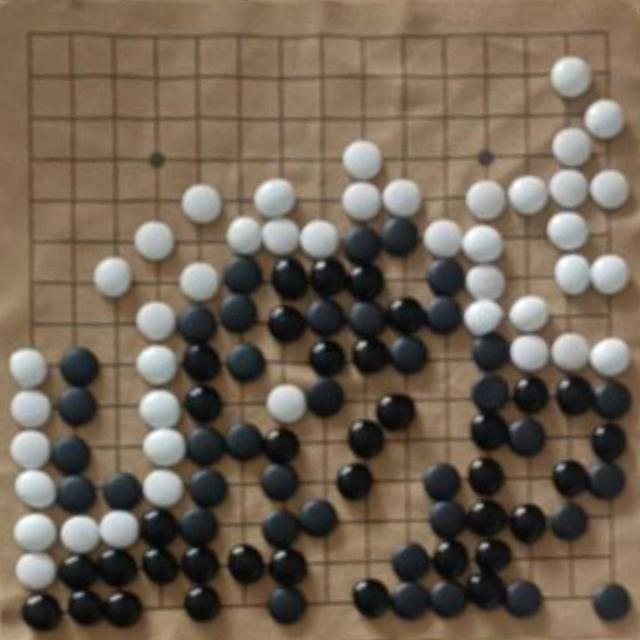blackstone: (58, 346, 101, 386), (50, 435, 92, 474), (470, 412, 511, 451), (221, 256, 263, 294), (56, 388, 98, 426), (379, 216, 418, 256), (271, 259, 310, 299), (139, 507, 179, 546), (556, 375, 595, 415), (268, 547, 308, 586), (351, 578, 390, 618), (102, 472, 143, 510), (96, 548, 137, 586), (178, 304, 218, 342), (342, 225, 382, 263), (57, 474, 97, 512), (259, 462, 299, 500), (305, 378, 345, 416), (261, 510, 301, 548), (308, 257, 348, 295), (592, 380, 630, 420), (58, 552, 98, 590), (376, 393, 416, 431), (391, 582, 431, 620), (266, 586, 306, 624), (178, 507, 219, 544), (181, 343, 222, 380), (465, 499, 506, 536), (21, 593, 62, 630), (224, 344, 266, 380), (422, 462, 461, 500), (346, 262, 385, 300), (549, 503, 588, 541), (227, 545, 266, 583), (508, 503, 546, 542), (592, 582, 631, 620), (470, 334, 510, 371), (188, 469, 228, 506), (388, 296, 428, 333), (507, 417, 545, 455), (299, 498, 337, 536), (467, 457, 505, 495), (552, 459, 590, 497), (104, 590, 142, 628), (219, 293, 258, 330), (306, 299, 345, 336), (391, 543, 430, 580), (181, 546, 220, 583), (465, 572, 504, 609), (186, 428, 224, 465), (390, 336, 428, 373), (587, 462, 625, 499), (512, 376, 550, 413), (347, 420, 384, 458), (591, 422, 628, 460), (142, 547, 180, 584), (433, 540, 470, 578), (429, 580, 466, 618), (504, 580, 542, 617), (66, 589, 104, 626), (471, 374, 510, 410), (184, 387, 223, 423), (267, 306, 306, 342), (426, 258, 464, 294), (428, 501, 466, 537), (474, 538, 512, 574), (262, 427, 301, 462), (347, 300, 384, 336), (226, 422, 263, 458), (183, 586, 220, 622), (352, 339, 390, 374), (426, 297, 462, 333), (337, 464, 373, 500), (309, 341, 346, 376)
whitestone: (550, 55, 592, 98), (13, 512, 57, 552), (10, 429, 52, 470), (138, 389, 182, 428), (551, 128, 593, 168), (547, 211, 589, 251), (14, 469, 56, 509), (142, 428, 186, 466), (134, 221, 174, 262), (584, 98, 624, 139), (135, 301, 176, 341), (589, 338, 630, 378), (550, 332, 590, 373), (266, 384, 307, 424), (549, 169, 590, 209), (254, 178, 296, 217), (461, 224, 503, 263), (136, 345, 178, 384), (10, 390, 52, 429), (60, 515, 102, 554), (98, 510, 140, 549), (14, 552, 57, 590), (466, 180, 506, 220), (142, 470, 184, 508), (343, 140, 382, 180), (182, 184, 222, 223), (179, 262, 219, 301), (8, 348, 48, 387), (590, 170, 629, 210), (590, 254, 628, 295), (342, 182, 382, 220), (94, 257, 132, 297), (508, 176, 548, 214), (300, 220, 340, 258), (423, 218, 463, 256), (554, 254, 592, 294), (510, 334, 549, 372), (508, 296, 548, 333), (465, 265, 506, 301), (226, 217, 264, 255), (382, 179, 421, 216), (262, 218, 301, 255), (464, 300, 504, 336)
